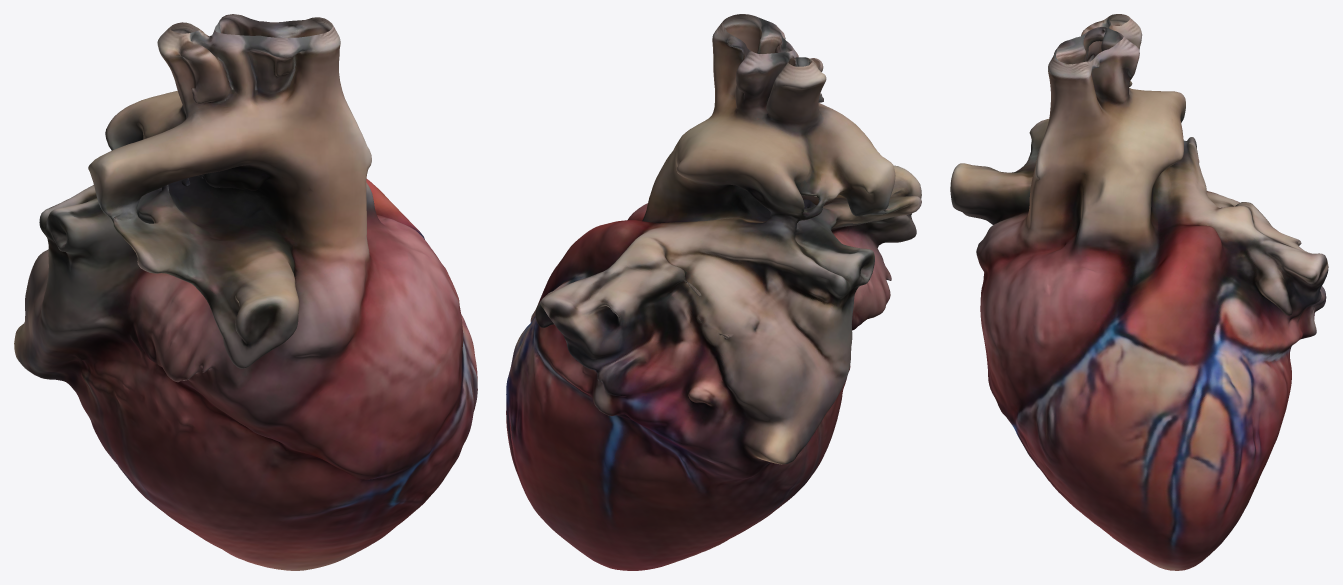
File: heart-3.glb
3 renders of one model, left to right at view 1: azimuth 30°, elevation 25°; view 2: azimuth 150°, elevation 25°; view 3: azimuth 270°, elevation 25°, orthographic. The views are drawn at different scales.
Visible parts, largest first — view 1: high_poly_0; view 2: high_poly_0; view 3: high_poly_0.
Boxes of the visible parts, left/top/right/bottom form: high_poly_0: left=14, top=14, right=477, bottom=570; high_poly_0: left=506, top=14, right=921, bottom=570; high_poly_0: left=950, top=14, right=1328, bottom=570.
Bounding box in the file's own units: 0.6745 × 1 × 0.7146.
1 material, 1 textured.
